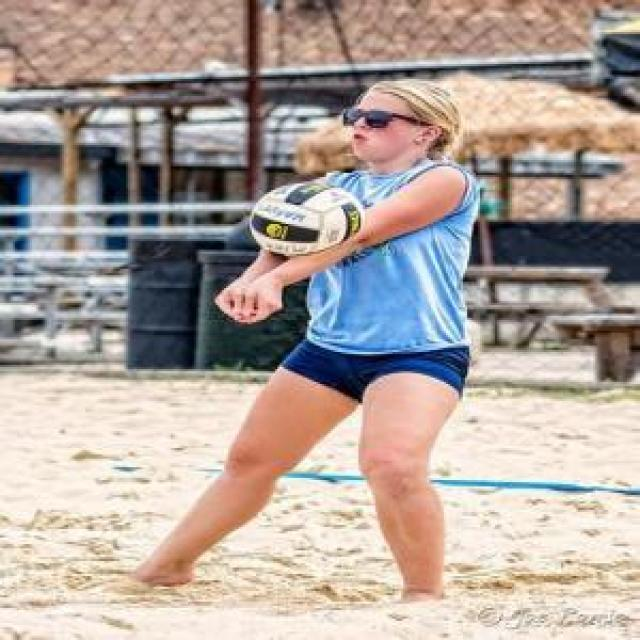volleyball: (248, 179, 362, 256)
